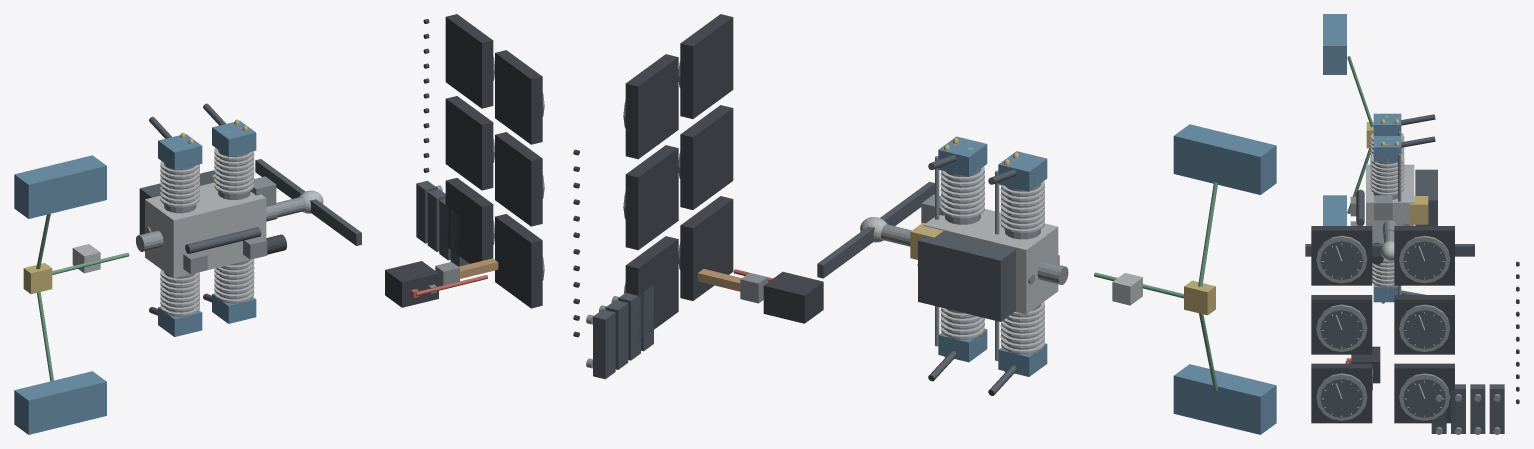
File: C172N_Phase6_Animated_Parts.glb
3 renders of one model, left to right at view 1: azimuth 30°, elevation 25°; view 2: azimuth 150°, elevation 25°; view 3: azimuth 270°, elevation 25°, orthographic. The views are drawn at different scales.
Visible parts, largest first — view 1: ENGINE__crankcase, FUEL__right_wing_tank, FUEL__left_wing_tank, PANEL__HEADING__housing, PANEL__VSI__housing, PANEL__ALTIMETER__housing, PANEL__ATTITUDE__housing, PANEL__AIRSPEED__housing, PANEL__TURN_COORDINATOR__housing, ELECTRICAL__battery, ENGINE__cylinder_3__head, ENGINE__cylinder_4__head (+19 smaller); view 2: ENGINE__oil_sump, FUEL__right_wing_tank, FUEL__left_wing_tank, PANEL__VSI__housing, PANEL__ALTIMETER__housing, PANEL__HEADING__housing, PANEL__ATTITUDE__housing, ENGINE__crankcase, PANEL__AIRSPEED__housing, PANEL__TURN_COORDINATOR__housing, ELECTRICAL__battery, PANEL__NAV_COM_0 (+14 smaller); view 3: PANEL__AIRSPEED__housing, PANEL__ALTIMETER__housing, PANEL__ATTITUDE__housing, PANEL__VSI__housing, PANEL__HEADING__housing, PANEL__TURN_COORDINATOR__housing, ENGINE__crankcase, FUEL__right_wing_tank, PANEL__VSI__face, PANEL__AIRSPEED__face, PANEL__ALTIMETER__face, PANEL__HEADING__face (+28 smaller).
Boxes of the visible parts, <box> form: ENGINE__crankcase: <box>145,182,266,278</box>; FUEL__right_wing_tank: <box>14,155,106,218</box>; FUEL__left_wing_tank: <box>14,371,106,434</box>; PANEL__HEADING__housing: <box>445,96,493,190</box>; PANEL__VSI__housing: <box>445,14,493,108</box>; PANEL__ALTIMETER__housing: <box>495,50,542,144</box>; PANEL__ATTITUDE__housing: <box>495,132,542,226</box>; PANEL__AIRSPEED__housing: <box>495,214,542,308</box>; PANEL__TURN_COORDINATOR__housing: <box>445,178,493,263</box>; ELECTRICAL__battery: <box>385,261,438,307</box>; ENGINE__cylinder_3__head: <box>158,134,202,170</box>; ENGINE__cylinder_4__head: <box>212,120,256,157</box>; ENGINE__oil_sump: <box>918,232,1015,321</box>; FUEL__right_wing_tank: <box>1173,124,1276,194</box>; FUEL__left_wing_tank: <box>1173,364,1276,434</box>; PANEL__VSI__housing: <box>625,54,678,159</box>; PANEL__ALTIMETER__housing: <box>680,14,733,118</box>; PANEL__HEADING__housing: <box>625,145,678,250</box>; PANEL__ATTITUDE__housing: <box>680,105,733,209</box>; ENGINE__crankcase: <box>923,209,1058,314</box>; PANEL__AIRSPEED__housing: <box>680,196,733,300</box>; PANEL__TURN_COORDINATOR__housing: <box>625,236,678,338</box>; ELECTRICAL__battery: <box>763,271,823,323</box>; PANEL__NAV_COM_0: <box>593,309,615,379</box>; PANEL__AIRSPEED__housing: <box>1311,363,1372,423</box>; PANEL__ALTIMETER__housing: <box>1311,226,1372,285</box>; PANEL__ATTITUDE__housing: <box>1311,295,1372,354</box>; PANEL__VSI__housing: <box>1394,226,1454,285</box>; PANEL__HEADING__housing: <box>1394,295,1454,354</box>; PANEL__TURN_COORDINATOR__housing: <box>1394,363,1454,423</box>; ENGINE__crankcase: <box>1366,164,1414,243</box>; FUEL__right_wing_tank: <box>1323,14,1346,74</box>; PANEL__VSI__face: <box>1403,241,1445,280</box>; PANEL__AIRSPEED__face: <box>1320,379,1363,417</box>; PANEL__ALTIMETER__face: <box>1320,241,1363,280</box>; PANEL__HEADING__face: <box>1403,310,1445,348</box>.
Bounding box in the file's own units: 7.25 × 3.39 × 3.11.
